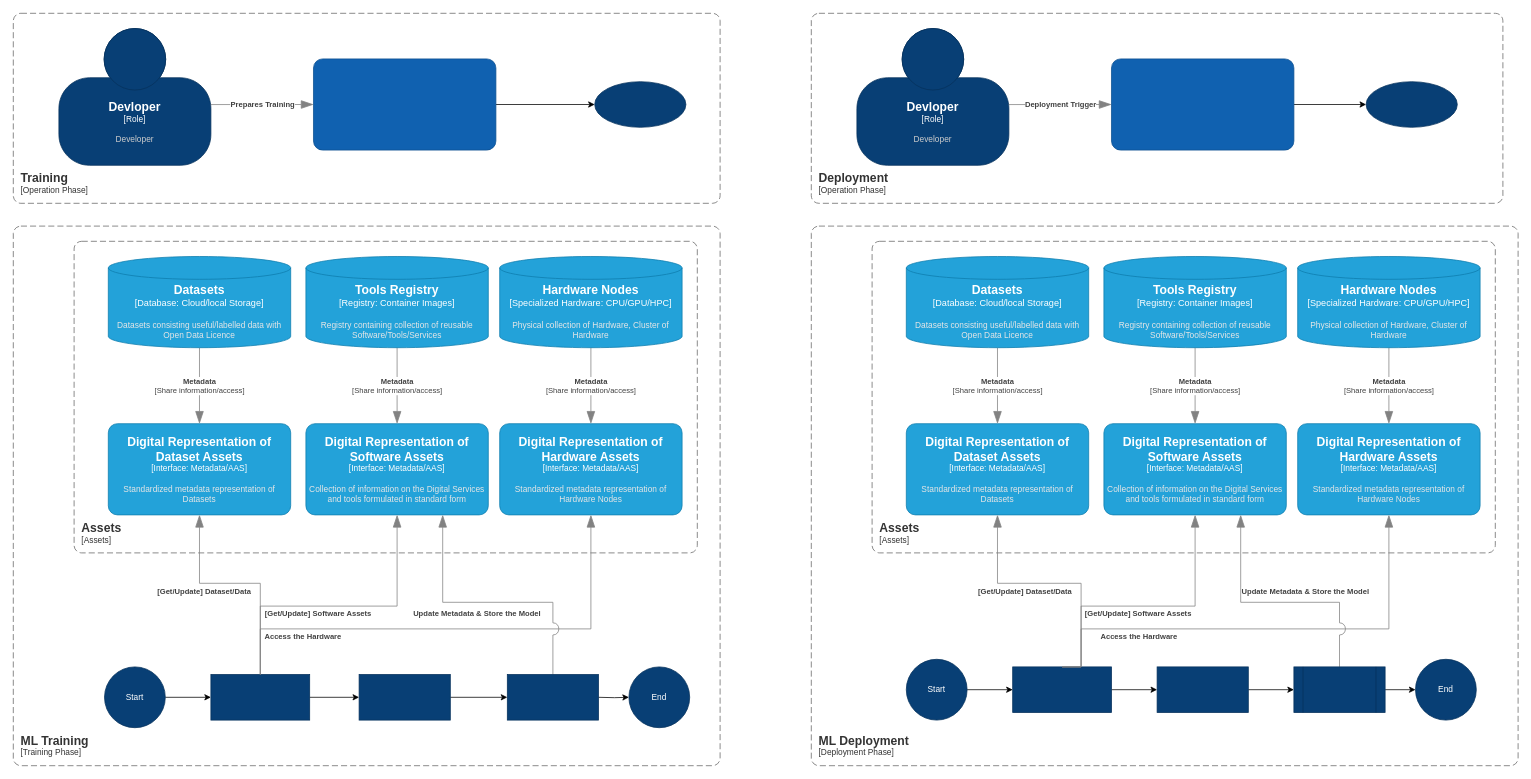
Some shapes in this 1531 by 779 pixel diagram are drawn without their labels. Here are the shapes that lost their labels. From the top down, the centre of each, then its label:
At [404,104]: "ML Training [Training Phase] ML Training Process".
At [640,104]: "Trained Model".
At [1202,104]: "ML Deployment [Deployment Phase] ML Deployment Process".
At [1411,104]: "Deployed Model".
At [260,697]: "Training Preparation".
At [404,697]: "Model Training".
At [552,697]: "Training Completion".
At [1062,689]: "Deployment Preparation".
At [1202,689]: "Automatic Deployment Trigger (CI/CD)".
At [1339,689]: "Container Build & Push to Registry".
